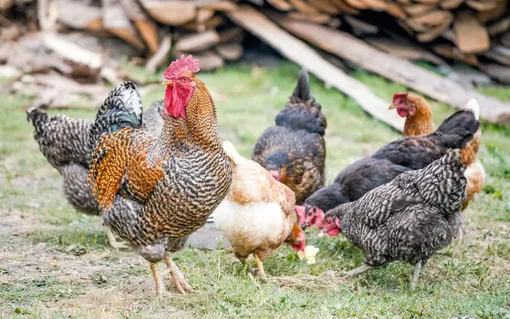chicken: (78, 57, 235, 290), (326, 139, 479, 281)
